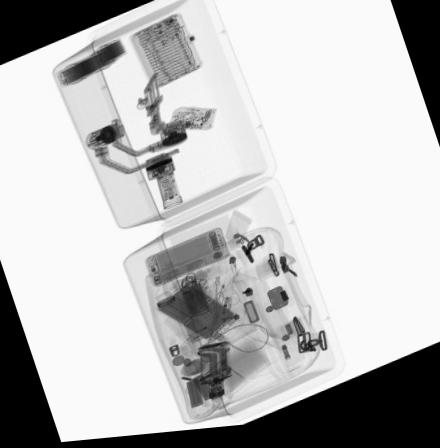Lighter: (184, 323, 221, 345)
